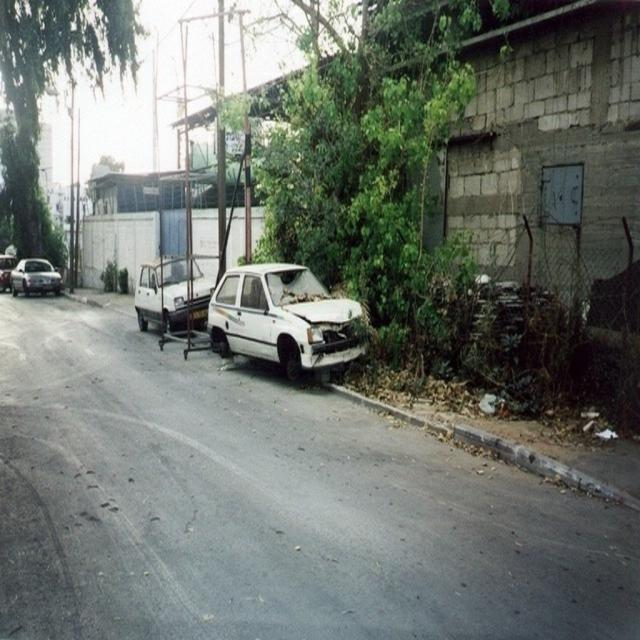car: (205, 260, 367, 385), (8, 259, 62, 292)
